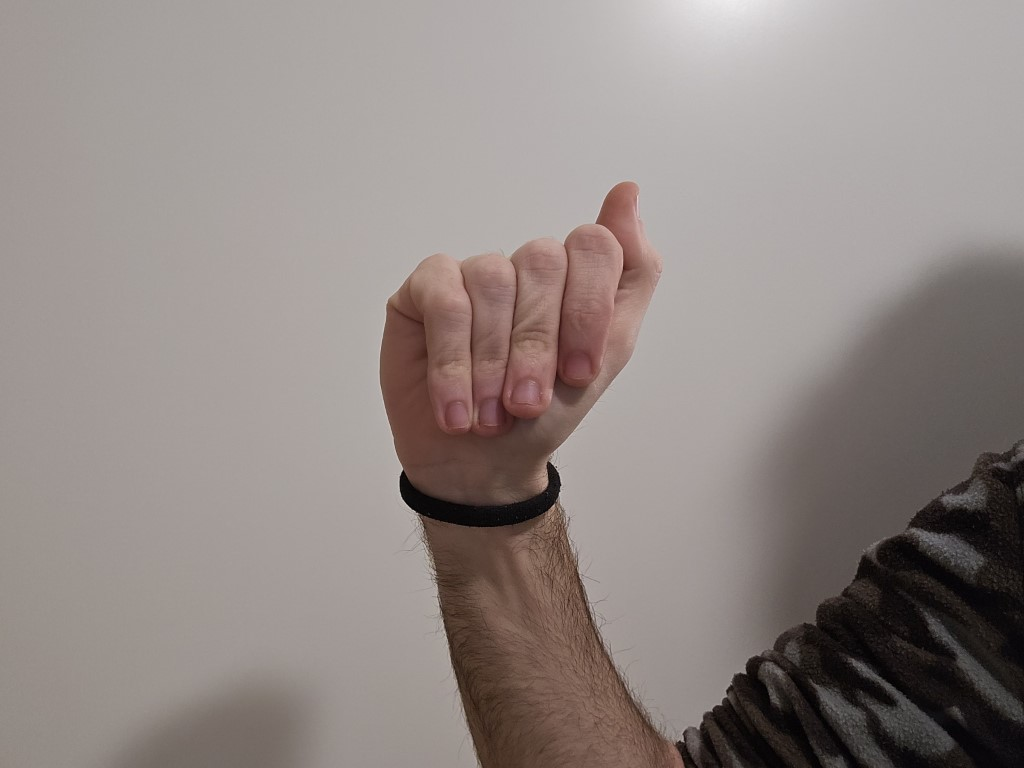a: (371, 167, 683, 525)
